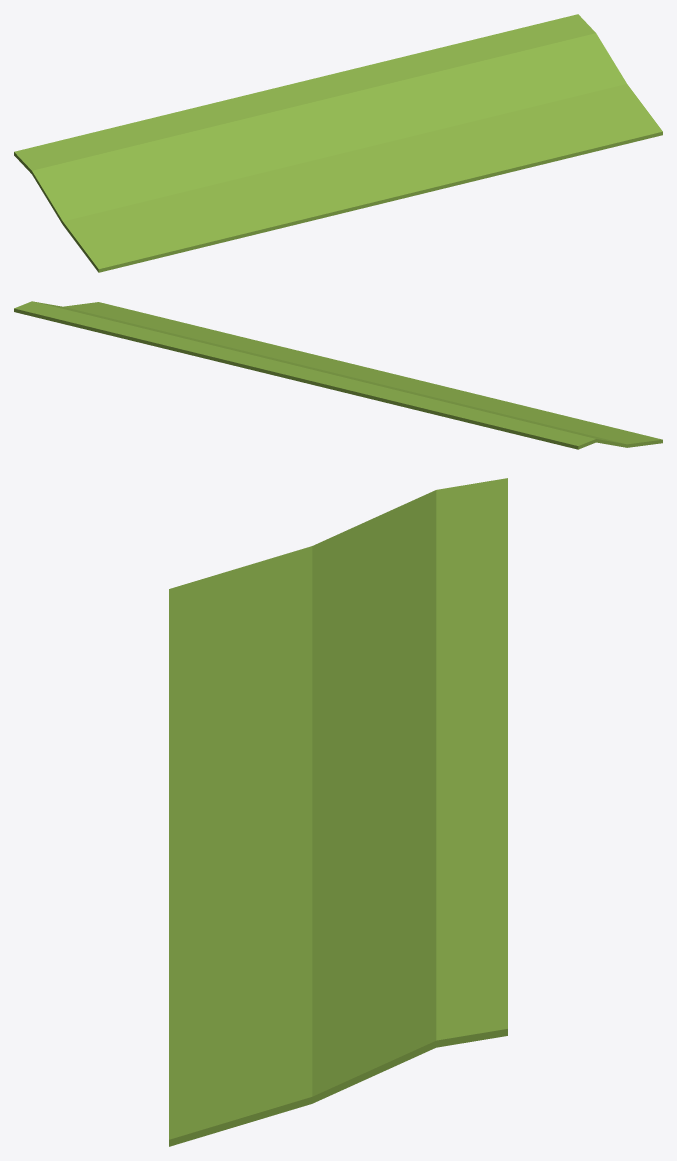
3 renders of one model, top to bottom at view 1: azimuth 30°, elevation 25°; view 2: azimuth 150°, elevation 25°; view 3: azimuth 270°, elevation 25°, orthographic. The views are drawn at different scales.
Parts seen in each view (by area): view 1: 外围草纸裙边_直边.001; view 2: 外围草纸裙边_直边.001; view 3: 外围草纸裙边_直边.001.
Boxes of the visible parts, x1,y1,x2,y2 form: 外围草纸裙边_直边.001: (14, 14, 662, 272); 外围草纸裙边_直边.001: (14, 301, 662, 449); 外围草纸裙边_直边.001: (169, 478, 507, 1146).
Bounding box in the file's own units: 2 × 0.2 × 0.52.
